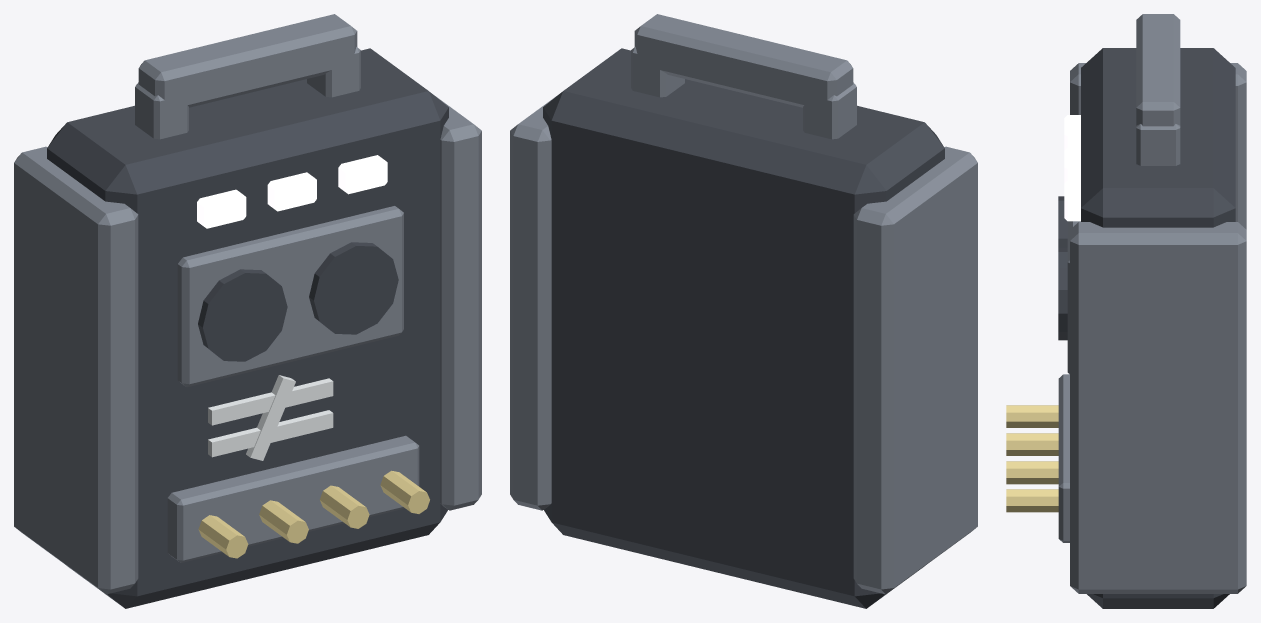
Rendered from auxiliar_cartucho_override.glb.
3 views of the same model, side by side, from view 1: azimuth 30°, elevation 25°; view 2: azimuth 150°, elevation 25°; view 3: azimuth 270°, elevation 25° (orthographic). The views are drawn at different scales.
Parts seen in each view (by area): view 1: Cartucho_Body, Cartucho_BumperL, Tape_Window, Cartucho_BumperR, Pin_Header, Cartucho_Handle, Spool_R, Spool_L, Chalk_Bar1, Chalk_Bar2, Cartucho_HPostL, LED_Violet_2 (+8 smaller); view 2: Cartucho_Body, Cartucho_BumperL, Cartucho_BumperR, Cartucho_Handle, Cartucho_HPostL, Cartucho_HPostR; view 3: Cartucho_BumperR, Cartucho_Body, Cartucho_Handle, Cartucho_BumperL, Pin_Header, Cartucho_HPostR, Quantum_Pin_3, Quantum_Pin_4, Quantum_Pin_1, Quantum_Pin_2, Spool_R, LED_Violet_3 (+4 smaller).
Part boxes in pixels (left/top/right/bottom): Cartucho_Body: left=47, top=48, right=448, bottom=608; Cartucho_BumperL: left=14, top=146, right=138, bottom=594; Tape_Window: left=177, top=206, right=403, bottom=387; Cartucho_BumperR: left=434, top=95, right=481, bottom=510; Pin_Header: left=167, top=435, right=419, bottom=562; Cartucho_Handle: left=138, top=14, right=357, bottom=110; Spool_R: left=309, top=242, right=398, bottom=334; Spool_L: left=198, top=269, right=287, bottom=361; Chalk_Bar1: left=208, top=378, right=333, bottom=425; Chalk_Bar2: left=208, top=410, right=333, bottom=457; Cartucho_HPostL: left=135, top=82, right=188, bottom=139; LED_Violet_2: left=267, top=172, right=316, bottom=211; Cartucho_Body: left=543, top=48, right=944, bottom=608; Cartucho_BumperL: left=853, top=146, right=977, bottom=594; Cartucho_BumperR: left=510, top=95, right=557, bottom=510; Cartucho_Handle: left=634, top=14, right=853, bottom=110; Cartucho_HPostL: left=803, top=82, right=856, bottom=139; Cartucho_HPostR: left=631, top=47, right=684, bottom=97; Cartucho_BumperR: left=1070, top=222, right=1246, bottom=593; Cartucho_Body: left=1081, top=48, right=1235, bottom=608; Cartucho_Handle: left=1136, top=14, right=1180, bottom=126; Cartucho_BumperL: left=1070, top=63, right=1246, bottom=229; Pin_Header: left=1058, top=374, right=1069, bottom=542; Cartucho_HPostR: left=1136, top=124, right=1180, bottom=165; Quantum_Pin_3: left=1006, top=461, right=1058, bottom=484; Quantum_Pin_4: left=1006, top=489, right=1058, bottom=512; Quantum_Pin_1: left=1006, top=405, right=1058, bottom=427; Quantum_Pin_2: left=1006, top=433, right=1058, bottom=455; Spool_R: left=1058, top=247, right=1067, bottom=340; LED_Violet_3: left=1064, top=180, right=1080, bottom=221.
Bounding box in the file's own units: 0.38 × 0.48 × 0.2175.
